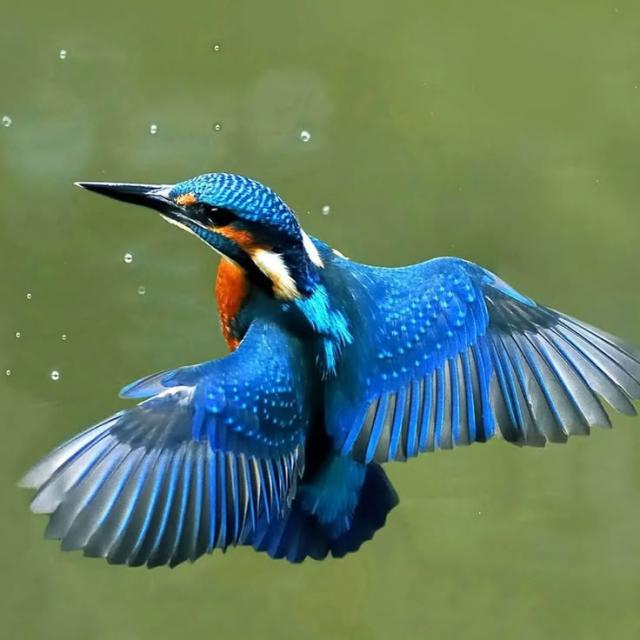kingfisher: (6, 160, 640, 587)
